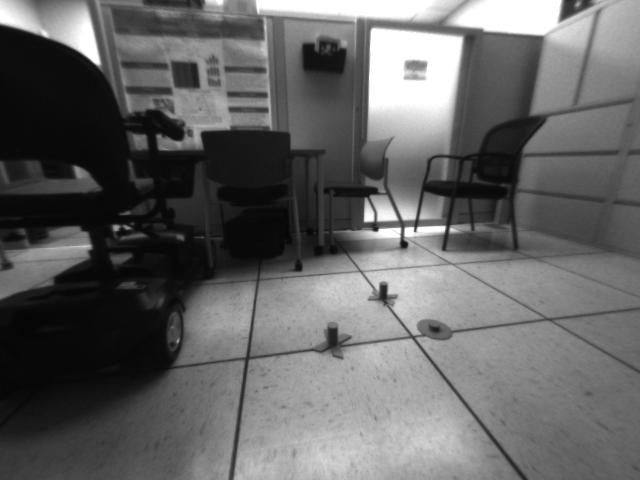X: (314, 321, 354, 357), (369, 279, 400, 305)
